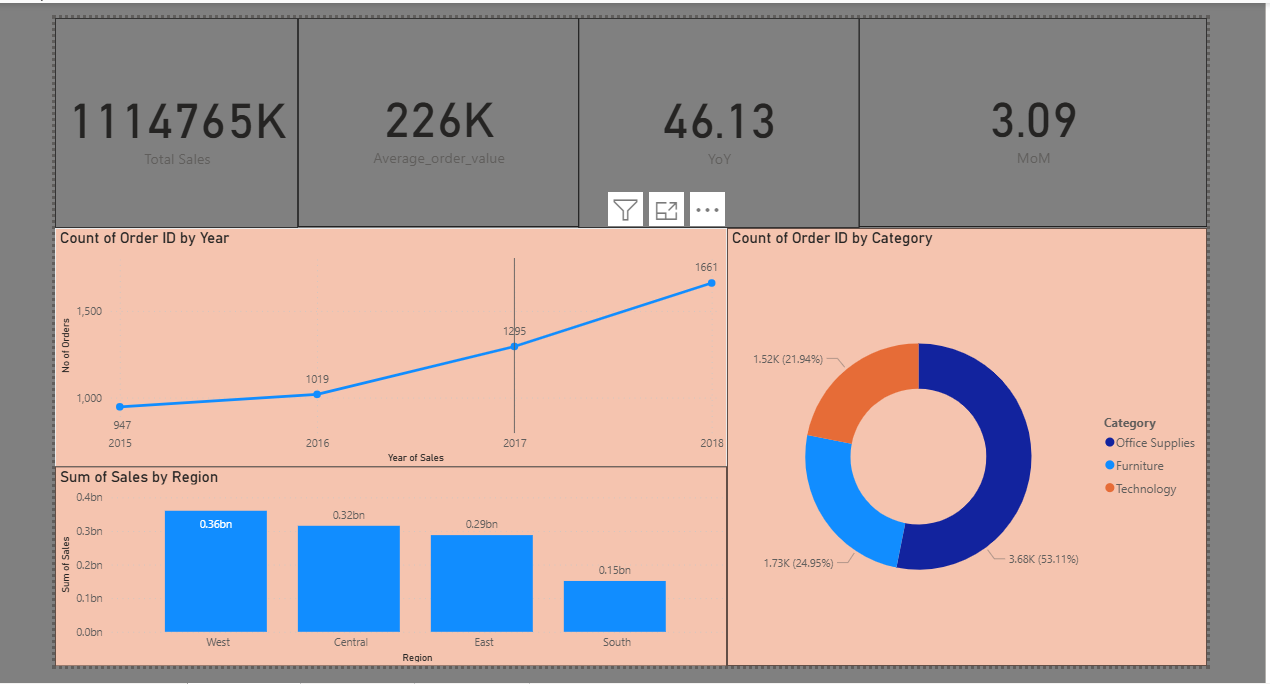

This screenshot's page, from the dashboard's own definition file:
{"tool":"powerbi","page":{"name":"Page 1","canvas":[1280,720],"ordinal":0},"visuals":[{"type":"card","fields":{"Values":["Data.Total Sales"]},"box":[0,0,270,233.3],"z":0},{"type":"card","fields":{"Values":["Data.Average_order_value"]},"box":[270,0,311.7,231.7],"z":1000},{"type":"card","fields":{"Values":["Data.YoY"]},"box":[581.7,0,311.7,233.3],"z":2000},{"type":"card","fields":{"Values":["Data.MoM"]},"box":[893.3,0,386.7,231.7],"z":3000},{"type":"lineChart","fields":{"Y":["Count(Data.Order ID)"],"Category":["Data.Year"]},"box":[0,233.3,746.7,265],"z":4000},{"type":"columnChart","fields":{"Category":["Data.Region"],"Y":["Sum(Data.Sales)"]},"box":[0,498.3,746.7,221.7],"z":5000},{"type":"donutChart","fields":{"Category":["Data.Category"],"Y":["Count(Data.Order ID)"]},"box":[746.7,233.3,533.3,486.7],"z":6000}]}

Visuals, with their boxes on the page's 1280x720 design canvas (x1, y1, x2, y2). These are canvas units, not pixel positions in the 1270x684 screenshot, which may show the page scaled, cropped or inside an application window:
card - Data.Total Sales: (x1=0, y1=0, x2=270, y2=233)
card - Data.Average_order_value: (x1=270, y1=0, x2=582, y2=232)
card - Data.YoY: (x1=582, y1=0, x2=893, y2=233)
card - Data.MoM: (x1=893, y1=0, x2=1280, y2=232)
lineChart - Count(Data.Order ID) x Data.Year: (x1=0, y1=233, x2=747, y2=498)
columnChart - Data.Region x Sum(Data.Sales): (x1=0, y1=498, x2=747, y2=720)
donutChart - Data.Category x Count(Data.Order ID): (x1=747, y1=233, x2=1280, y2=720)
